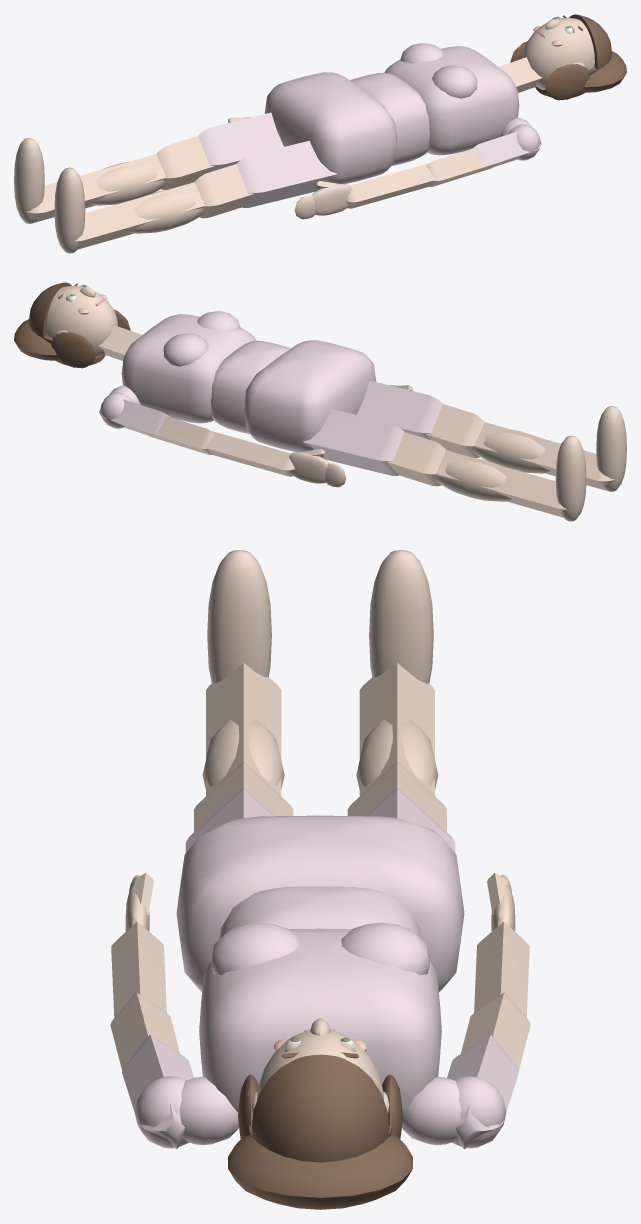
The model's file is patient_adult_female.glb.
The picture shows the model from 3 angles, top to bottom: view 1: azimuth 30°, elevation 25°; view 2: azimuth 150°, elevation 25°; view 3: azimuth 270°, elevation 25°; orthographic projection. The views are drawn at different scales.
Visible parts, largest first — view 1: pelvis, chest, head, thigh_l, thigh_r, shin_l, shin_r, abdomen, upper_arm_l, foot_l, foot_r, forearm_l (+2 smaller); view 2: pelvis, chest, head, thigh_r, thigh_l, shin_r, shin_l, abdomen, upper_arm_r, foot_r, foot_l, forearm_r (+2 smaller); view 3: chest, pelvis, head, upper_arm_l, upper_arm_r, shin_l, shin_r, foot_l, foot_r, abdomen, thigh_l, thigh_r (+4 smaller).
Boxes of the visible parts, x1,y1,x2,y2 form: pelvis: (264, 72, 397, 184); chest: (384, 43, 519, 155); head: (510, 14, 626, 100); thigh_l: (195, 140, 337, 218); thigh_r: (156, 112, 283, 189); shin_l: (74, 182, 204, 249); shin_r: (26, 154, 166, 222); abdomen: (350, 72, 429, 165); upper_arm_l: (426, 117, 541, 186); foot_l: (54, 167, 85, 253); foot_r: (14, 138, 44, 223); forearm_l: (346, 163, 435, 208); pelvis: (243, 340, 376, 452); chest: (121, 311, 256, 423); head: (14, 282, 130, 368); thigh_r: (303, 408, 445, 486); thigh_l: (357, 380, 484, 457); shin_r: (436, 450, 566, 517); shin_l: (474, 422, 614, 490); abdomen: (211, 340, 290, 433); upper_arm_r: (99, 385, 214, 454); foot_r: (555, 435, 586, 521); foot_l: (596, 406, 626, 491); forearm_r: (205, 431, 294, 476); chest: (199, 922, 441, 1112); pelvis: (176, 815, 464, 991); head: (228, 1018, 412, 1209); upper_arm_l: (110, 992, 238, 1149); upper_arm_r: (402, 992, 530, 1149); shin_l: (202, 662, 284, 796); shin_r: (356, 662, 438, 796); foot_l: (207, 550, 271, 683); foot_r: (369, 550, 433, 683); abdomen: (219, 886, 421, 939); thigh_l: (185, 761, 293, 852); thigh_r: (347, 761, 455, 852).
Size of the model in its own units: 1.67 by 0.26 by 0.5195.
